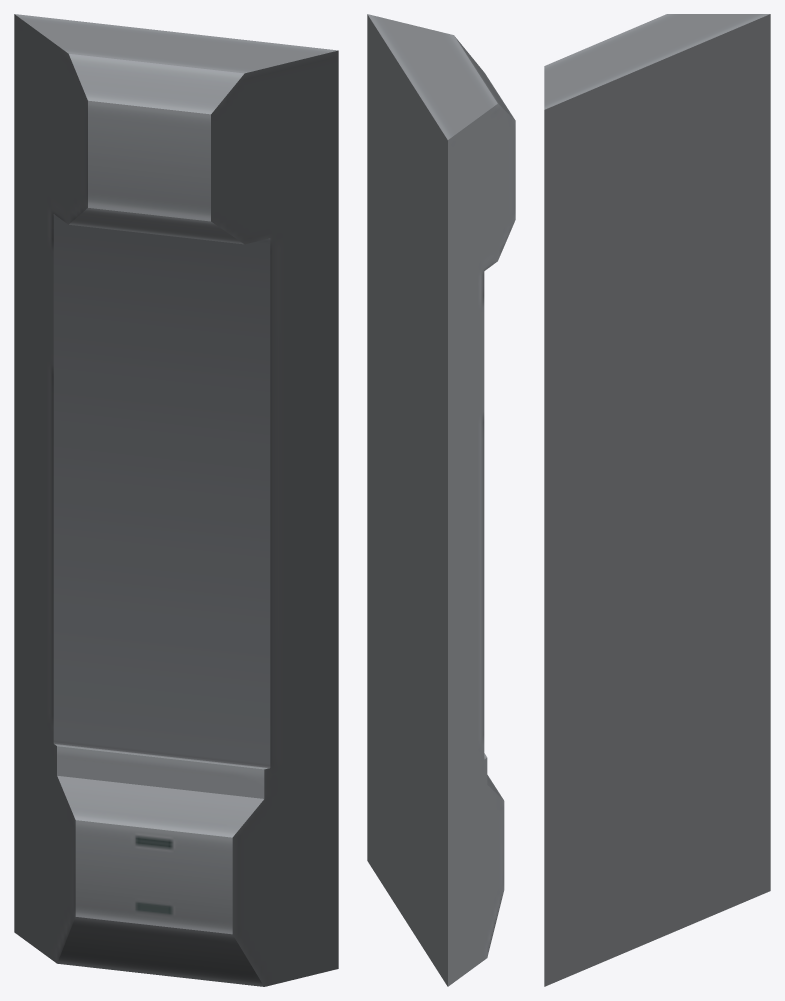
The model's file is SM_Laboratory_Wall_Corner.fbx.
3 renders of one model, left to right at view 1: azimuth 30°, elevation 25°; view 2: azimuth 150°, elevation 25°; view 3: azimuth 270°, elevation 25°, orthographic. The views are drawn at different scales.
Parts seen in each view (by area): view 1: SM_Laboratory_Wall_Corner; view 2: SM_Laboratory_Wall_Corner; view 3: SM_Laboratory_Wall_Corner.
Boxes of the visible parts, x1,y1,x2,y2 form: SM_Laboratory_Wall_Corner: (14,14,338,986); SM_Laboratory_Wall_Corner: (367,14,515,986); SM_Laboratory_Wall_Corner: (544,14,770,986).
Bounding box in the file's own units: 65.69 × 280 × 65.47.
1 material, 1 textured.
